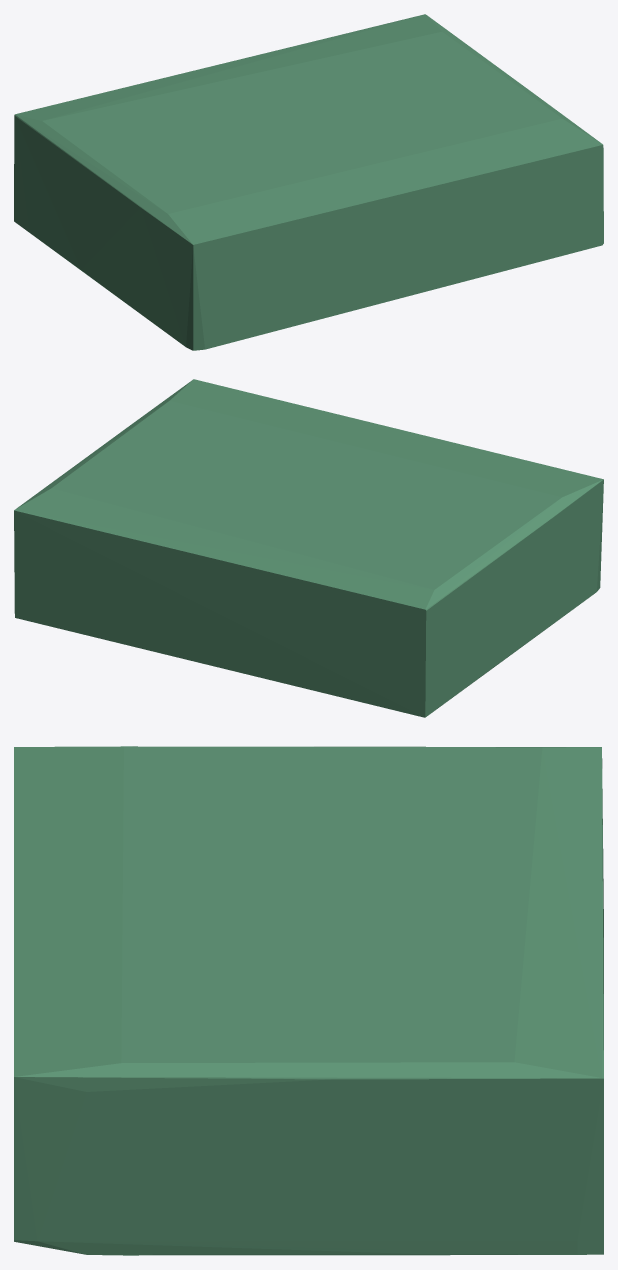
File: rack_long_empty_a01.glb
The picture shows the model from 3 angles, top to bottom: view 1: azimuth 30°, elevation 25°; view 2: azimuth 150°, elevation 25°; view 3: azimuth 270°, elevation 25°; orthographic projection. The views are drawn at different scales.
Visible parts, largest first — view 1: geometry_0; view 2: geometry_0; view 3: geometry_0.
Boxes of the visible parts, <box> form: geometry_0: <box>14,14,603,350</box>; geometry_0: <box>14,379,603,717</box>; geometry_0: <box>14,746,603,1255</box>.
Bounding box in the file's own units: 0.48 × 0.1297 × 0.3612.
